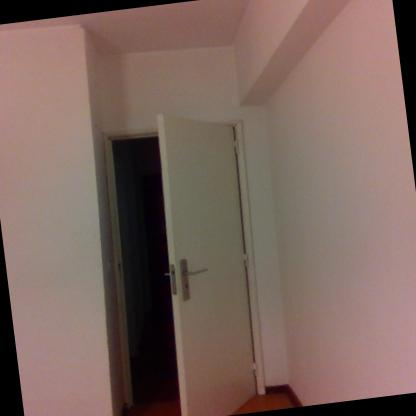semi: (67, 95, 281, 415)
